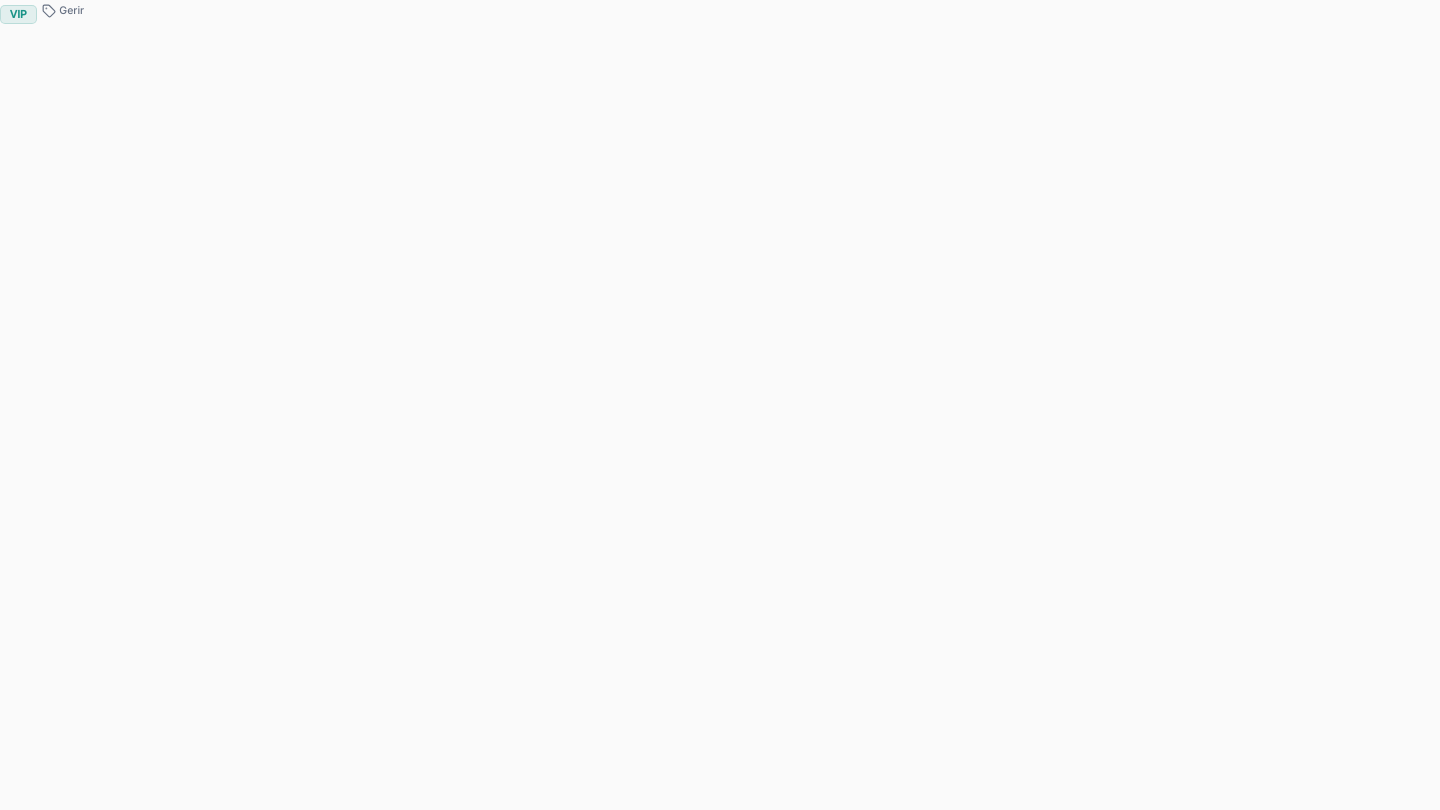
ProcessLabelsEditor — acrescentar › diz porquê quando recusa uma etiqueta repetida
Click the button with test id "abrir-etiquetas".
click(63, 10)  # box 36,0 -> 89,21
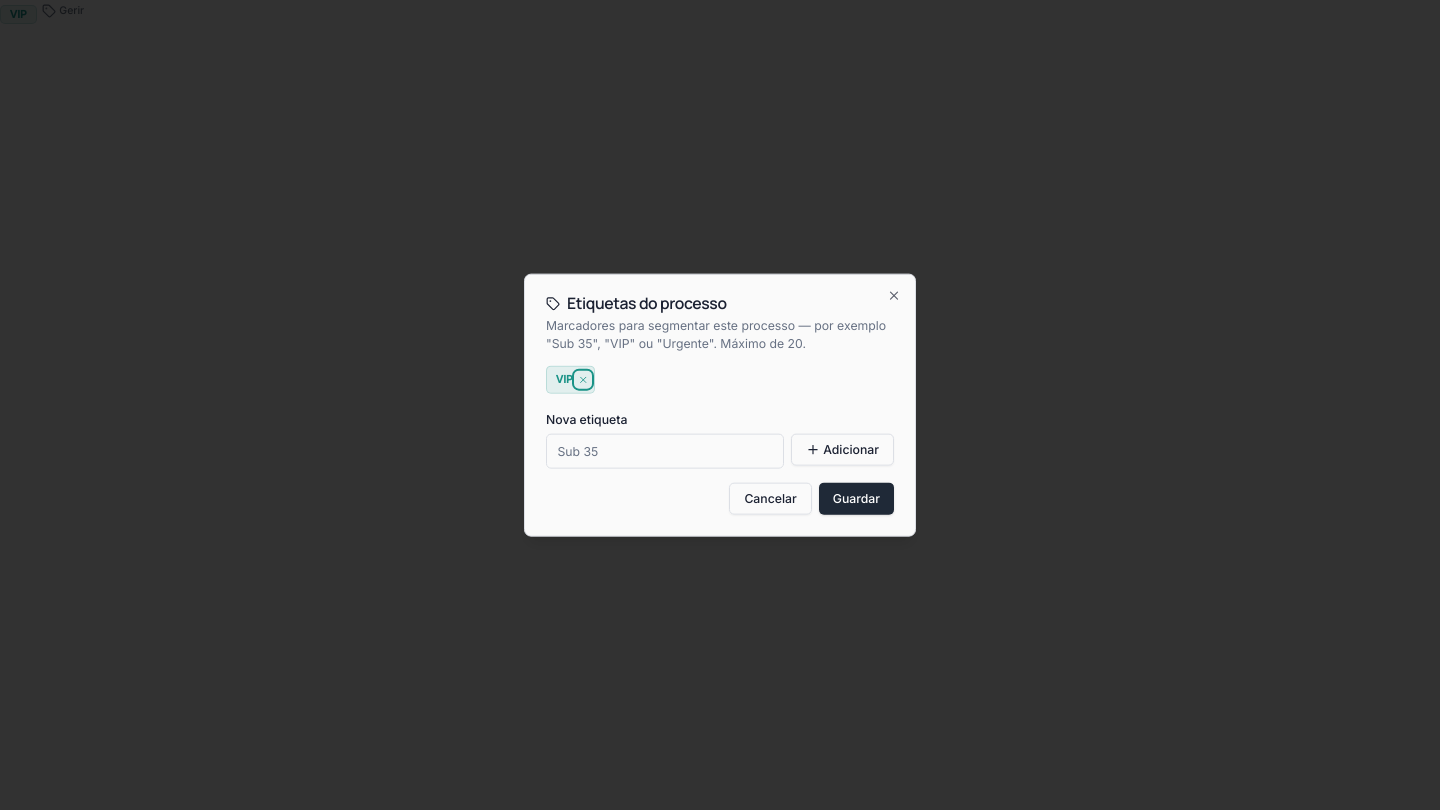
Type "vip" into the field labelled "Nova etiqueta".
click(665, 451); type("vip")  # box 546,434 -> 784,469
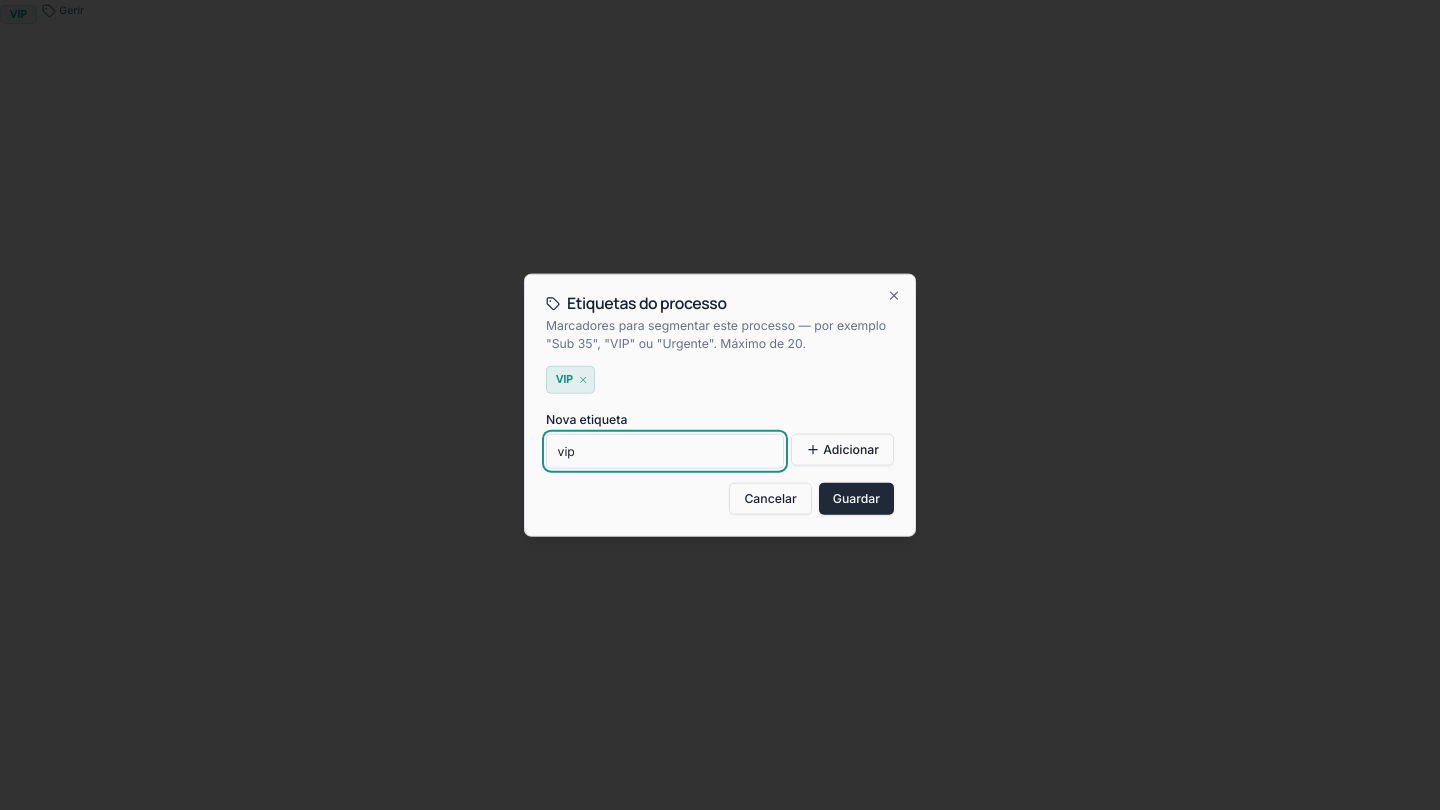
Click the button "Adicionar".
click(842, 450)  # box 791,434 -> 894,465
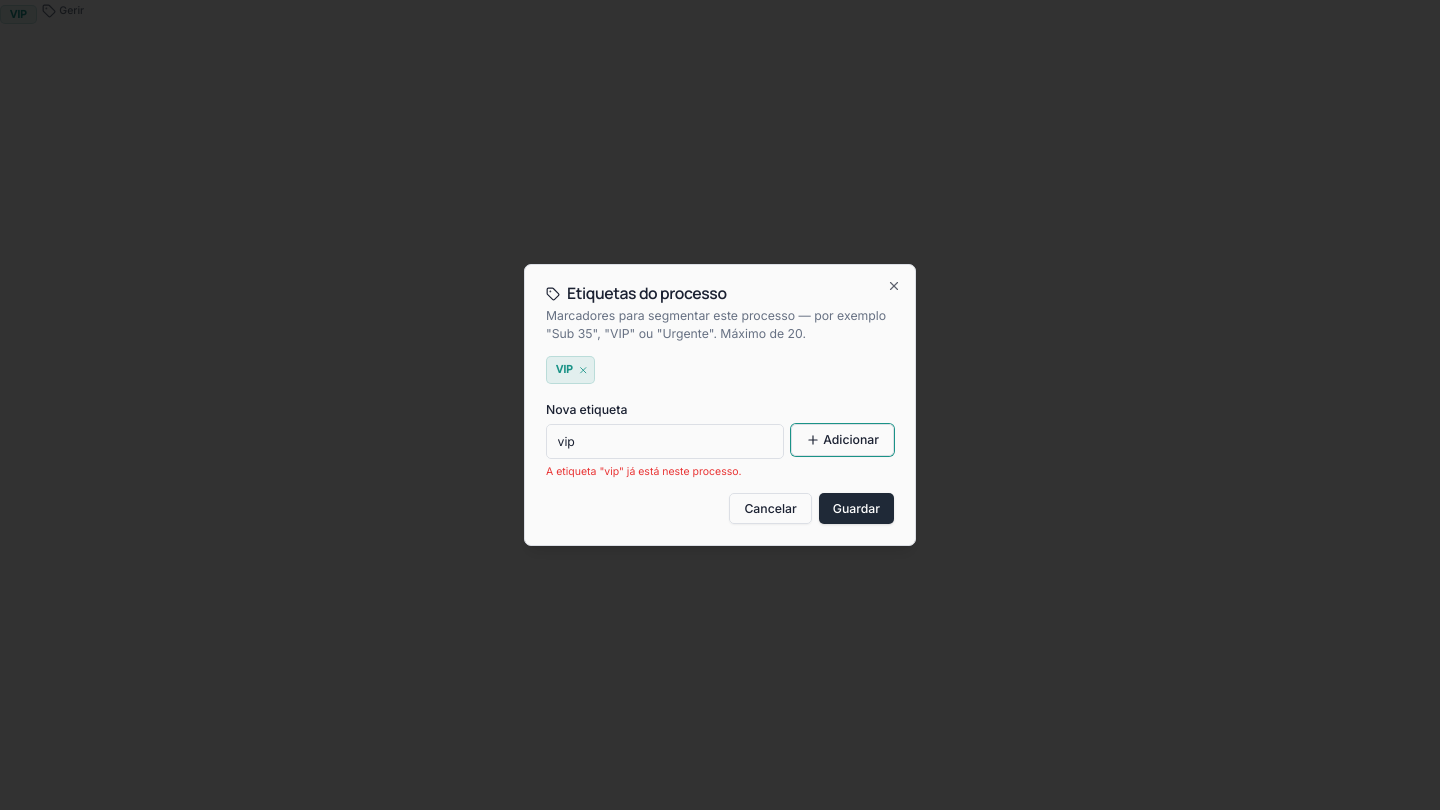
Now the message shows "já está", box 546,464 -> 742,478
